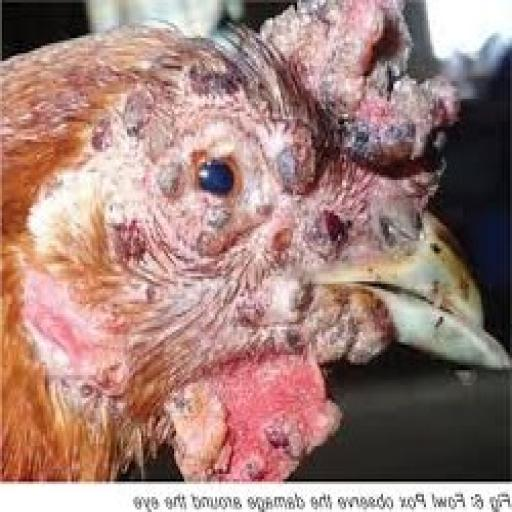disease: (84, 0, 471, 482)
